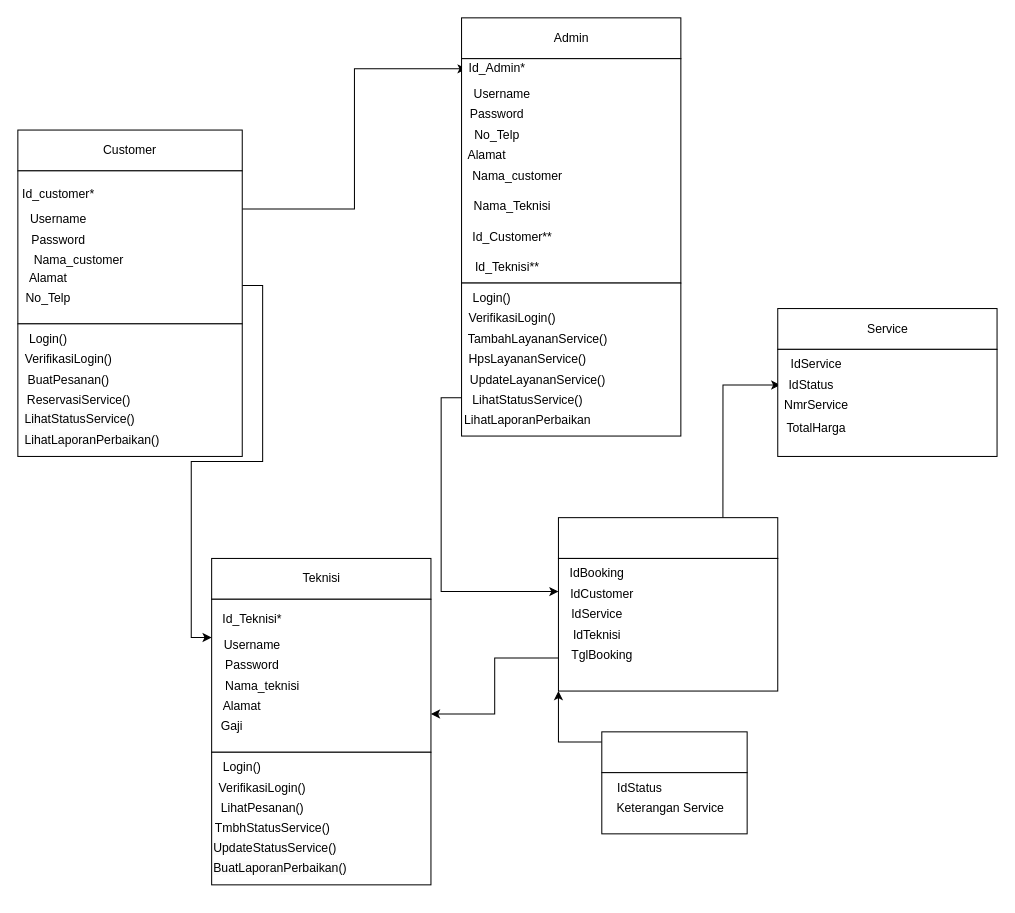
Image size: 1015x913. Some labels were removed from this diagram. Here are the shapes that lost their labels. From the top down, the centre of each, then its label:
At [667,537]: "Booking".
At [674,752]: "Status Service".
